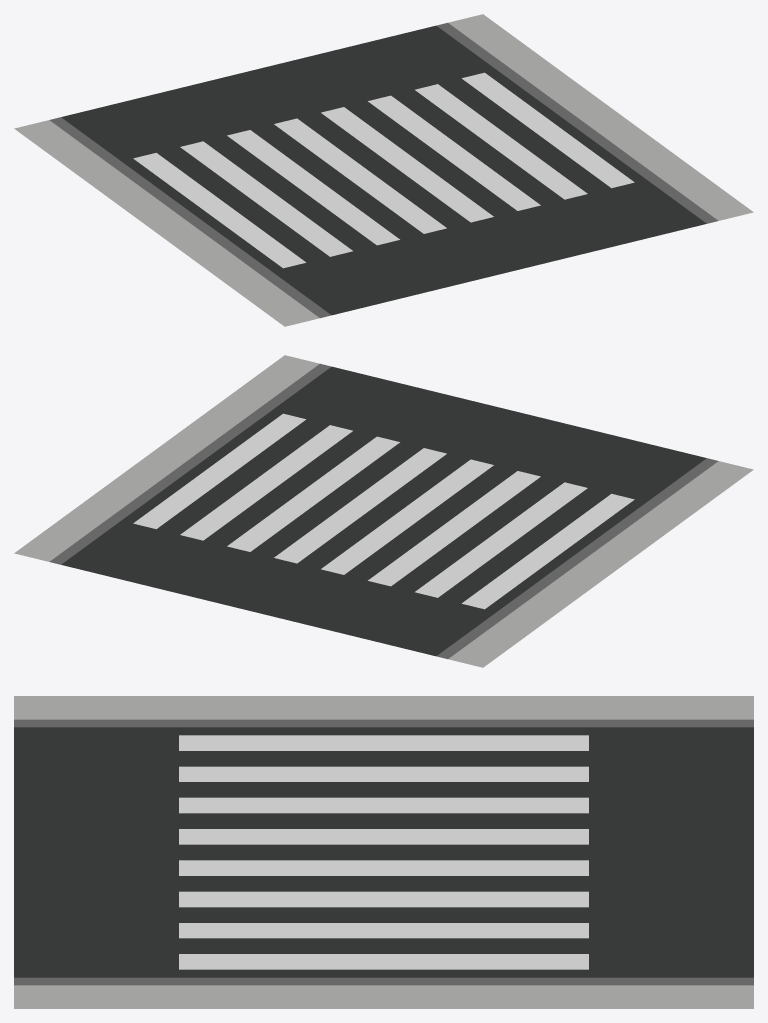
File: SM_Road_Tile_Crossing.fbx
3 views of the same model, one above another, from view 1: azimuth 30°, elevation 25°; view 2: azimuth 150°, elevation 25°; view 3: azimuth 270°, elevation 25° (orthographic). The views are drawn at different scales.
Parts seen in each view (by area): view 1: Tile_Road_Crossing; view 2: Tile_Road_Crossing; view 3: Tile_Road_Crossing.
Boxes of the visible parts, x1,y1,x2,y2 form: Tile_Road_Crossing: (14, 14, 753, 326); Tile_Road_Crossing: (14, 355, 753, 667); Tile_Road_Crossing: (14, 696, 753, 1008).
Size of the model in its own units: 1000 by 0 by 1000.
1 material, 1 textured.
